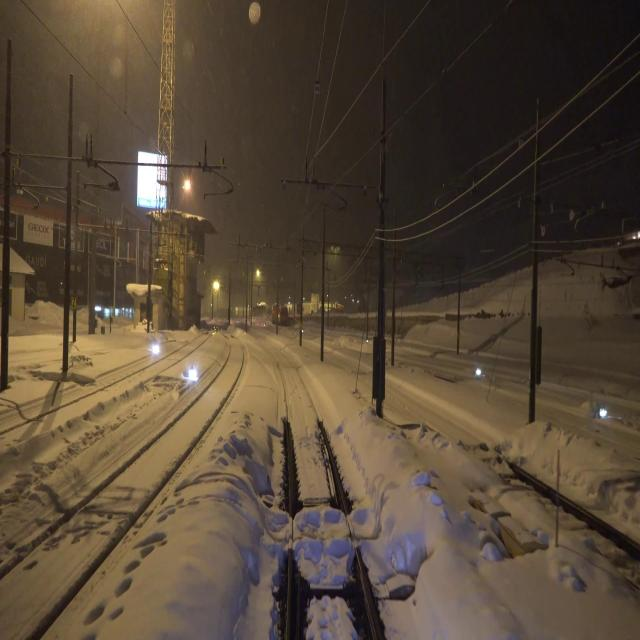rail-track: (0, 335, 241, 639), (275, 354, 376, 639), (0, 335, 206, 440)
